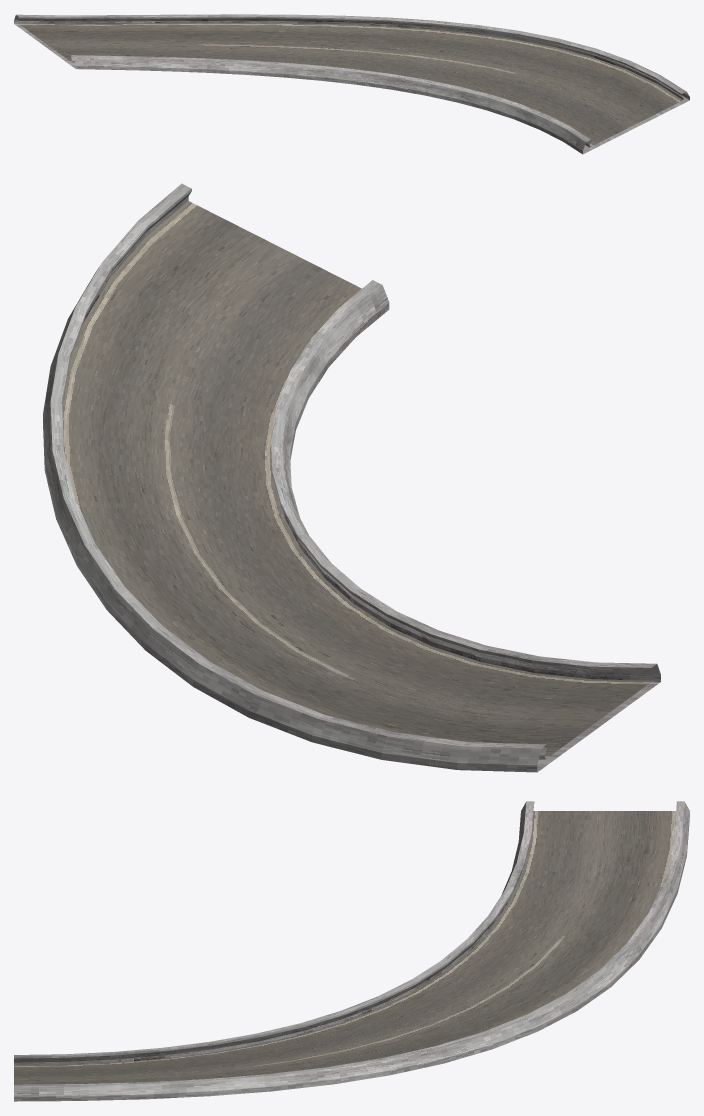
The model's file is road-Turn-HalfBankedLeft-BiSlopeUp-Up1-Left-Size4.glb.
3 renders of one model, top to bottom at view 1: azimuth 30°, elevation 25°; view 2: azimuth 150°, elevation 25°; view 3: azimuth 270°, elevation 25°, orthographic. The views are drawn at different scales.
Visible parts, largest first — view 1: road-Turn-HalfBankedLeft-BiSlopeUp-Up1-Left-Size4; view 2: road-Turn-HalfBankedLeft-BiSlopeUp-Up1-Left-Size4; view 3: road-Turn-HalfBankedLeft-BiSlopeUp-Up1-Left-Size4.
Part boxes in pixels (<box>): road-Turn-HalfBankedLeft-BiSlopeUp-Up1-Left-Size4: <box>14,14,689,154</box>; road-Turn-HalfBankedLeft-BiSlopeUp-Up1-Left-Size4: <box>43,183,660,772</box>; road-Turn-HalfBankedLeft-BiSlopeUp-Up1-Left-Size4: <box>14,801,689,1101</box>.
Bounding box in the file's own units: 4 × 0.3758 × 4.
2 materials, 2 textured.
